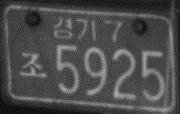2: (111, 47, 137, 102)
5: (137, 48, 166, 102), (54, 43, 80, 96)
7: (101, 17, 125, 43)
9: (83, 47, 109, 97)
경기_O: (50, 14, 98, 41)
조: (18, 50, 48, 79)
